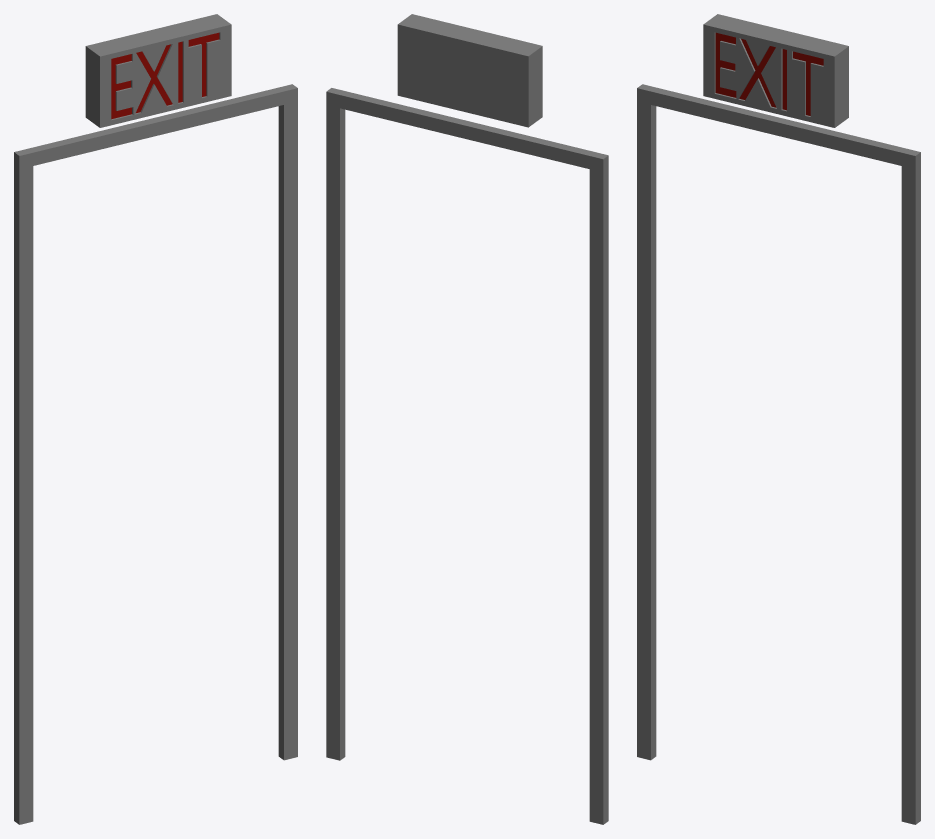
The model's file is ExitFrame.fbx.
3 renders of one model, left to right at view 1: azimuth 30°, elevation 25°; view 2: azimuth 150°, elevation 25°; view 3: azimuth 330°, elevation 25°, orthographic.
Visible parts, largest first — view 1: DoorFrame, Exit; view 2: DoorFrame, Exit; view 3: DoorFrame, Exit.
Part boxes in pixels (x1,y1,x2,y2): DoorFrame: (14,84,297,824); Exit: (85,14,231,127); DoorFrame: (326,88,608,824); Exit: (397,14,542,127); DoorFrame: (637,84,920,824); Exit: (703,14,848,127).
Bounding box in the file's own units: 89.05 × 231 × 7.97.
